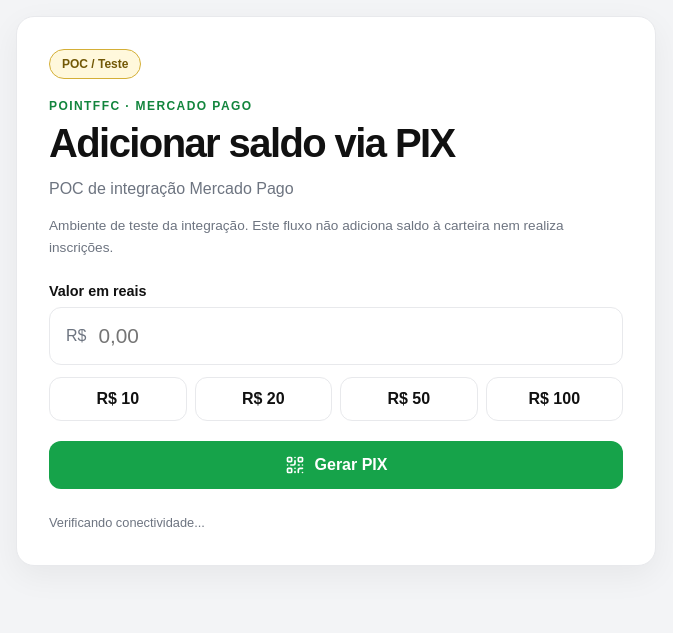
Test: não inicia polling se criação retornar CANCELADO
The image size is (673, 633).
Click the button "R$ 10" at (118, 399), box [49,377,186,421]
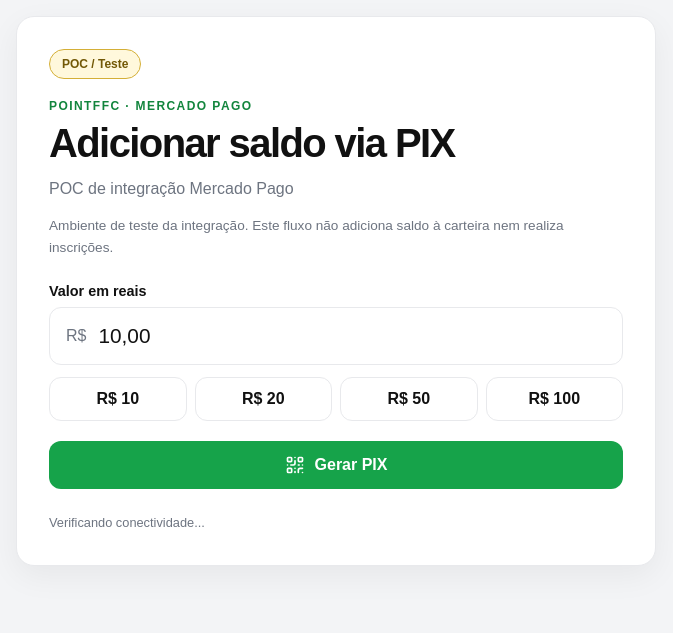
Click the button "Gerar PIX" at (336, 465), box [49,441,623,489]
Wait 10000 ms
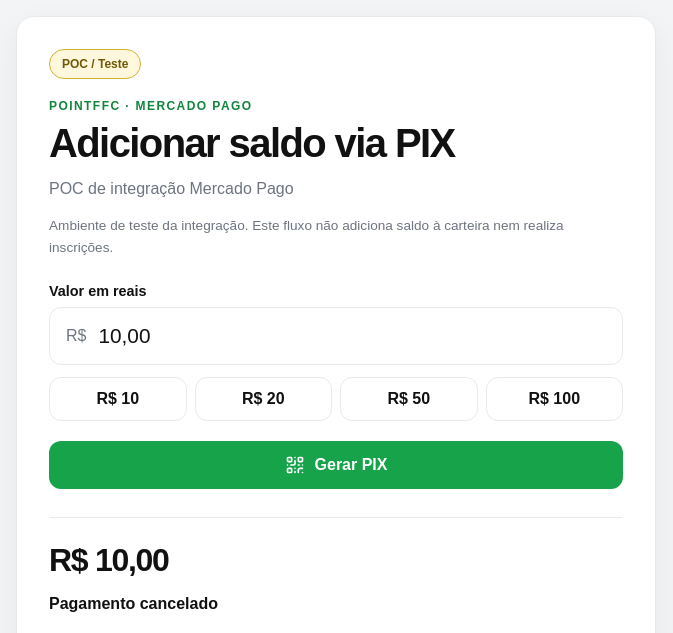
Now the text "Pagamento cancelado" is shown, box [49,595,218,612]
